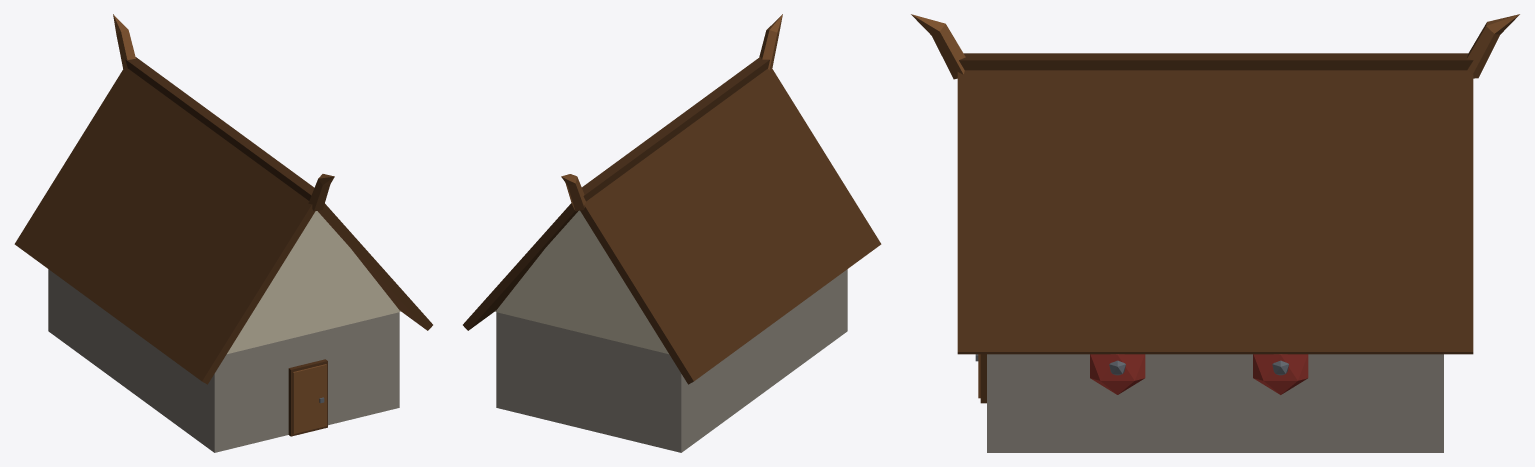
Rendered from dwarf_house_a.glb.
3 renders of one model, left to right at view 1: azimuth 30°, elevation 25°; view 2: azimuth 150°, elevation 25°; view 3: azimuth 270°, elevation 25°, orthographic. The views are drawn at different scales.
Visible parts, largest first — view 1: dwarf_house_a; view 2: dwarf_house_a; view 3: dwarf_house_a.
Part boxes in pixels (x1,y1,x2,y2): dwarf_house_a: (14,14,432,452); dwarf_house_a: (463,14,881,452); dwarf_house_a: (911,14,1519,452).
Bounding box in the file's own units: 2.25 × 2.55 × 3.74.
